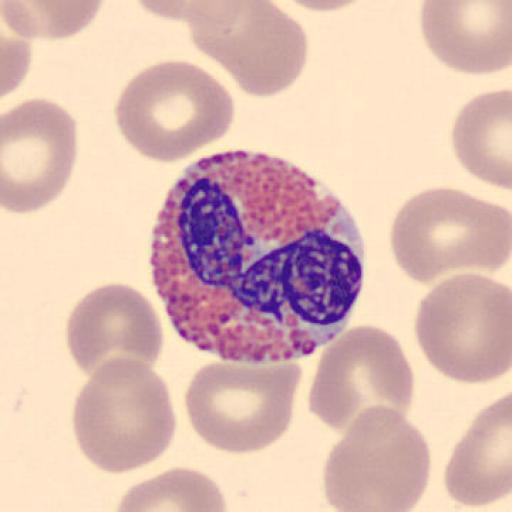RBC: (114, 59, 236, 165), (388, 184, 511, 287), (72, 355, 178, 474), (307, 322, 415, 438), (183, 1, 309, 99), (322, 403, 433, 512), (184, 358, 302, 456), (413, 272, 511, 384), (64, 281, 165, 383), (2, 96, 78, 214), (443, 389, 512, 509), (418, 0, 512, 76), (451, 88, 512, 190), (113, 465, 228, 512), (4, 0, 107, 41), (0, 1, 33, 99), (1, 30, 32, 100), (132, 0, 220, 21), (269, 0, 375, 13)
WBC: (146, 155, 368, 361)
